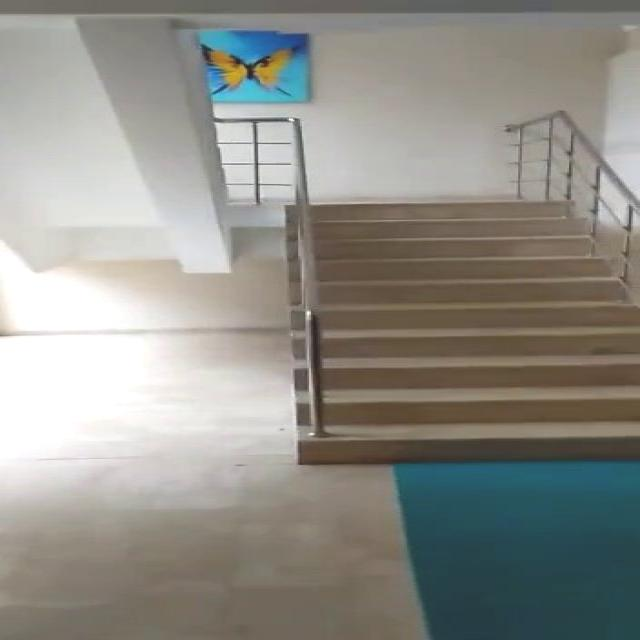stair: (290, 205, 640, 468)
